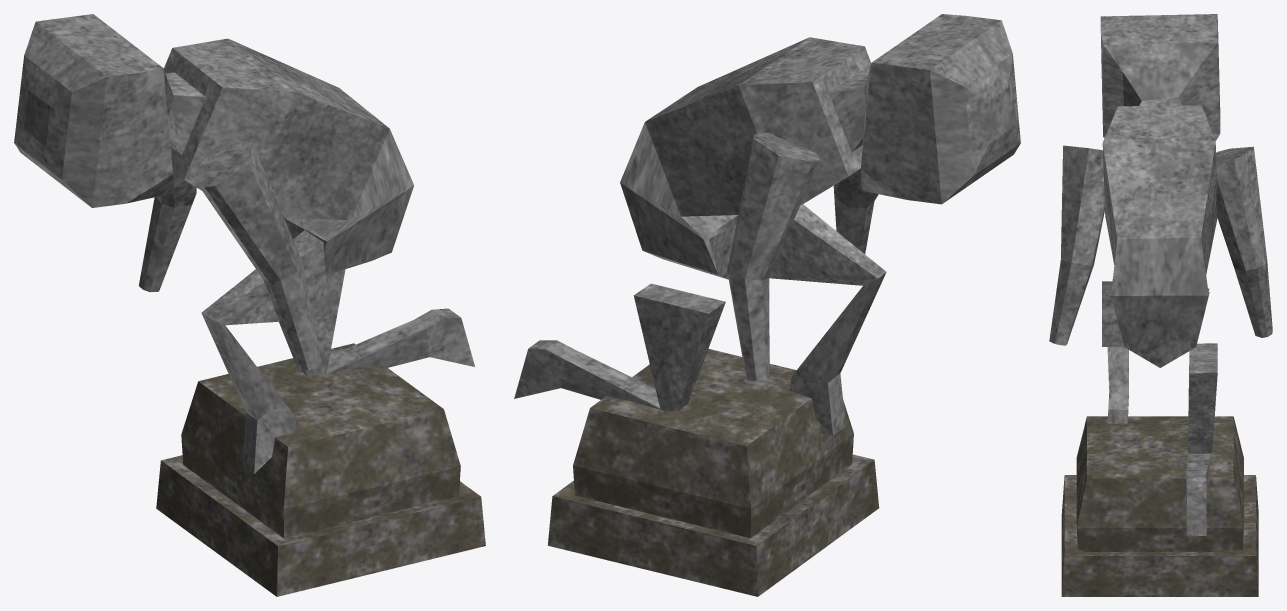
File: Totem_E.fbx
3 views of the same model, side by side, from view 1: azimuth 30°, elevation 25°; view 2: azimuth 150°, elevation 25°; view 3: azimuth 270°, elevation 25° (orthographic). The views are drawn at different scales.
Visible parts, largest first — view 1: Totem_E; view 2: Totem_E; view 3: Totem_E.
Part boxes in pixels (<box>): Totem_E: <box>14,14,485,596</box>; Totem_E: <box>514,14,1020,596</box>; Totem_E: <box>1049,14,1272,596</box>.
Size of the model in its own units: 551 by 624 by 286.
Materials: 2 (2 with a texture image).
